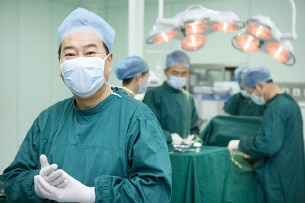Mask: (59, 43, 111, 95)
